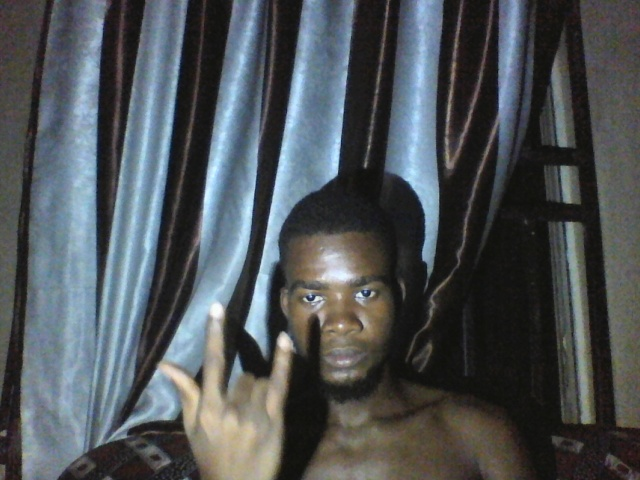i love you: (154, 301, 296, 480)
